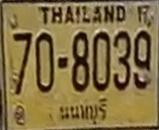0: (36, 32, 54, 91), (92, 32, 110, 90)
3: (113, 31, 130, 90)
7: (13, 32, 31, 95)
8: (71, 32, 88, 90)
9: (133, 29, 151, 90)
NBI: (56, 95, 111, 126)
